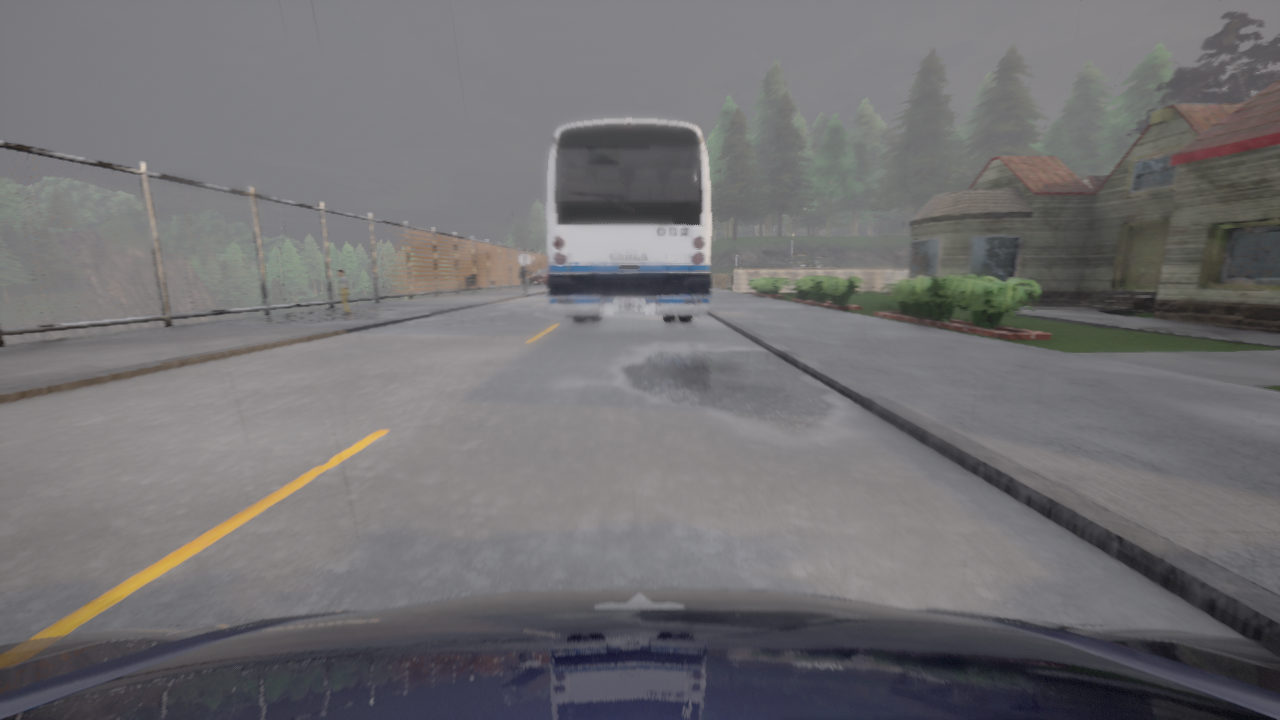cyclist: (0, 588, 1279, 719), (548, 119, 710, 321), (529, 267, 548, 286)
pedestrian: (337, 269, 350, 314), (520, 266, 529, 290)
